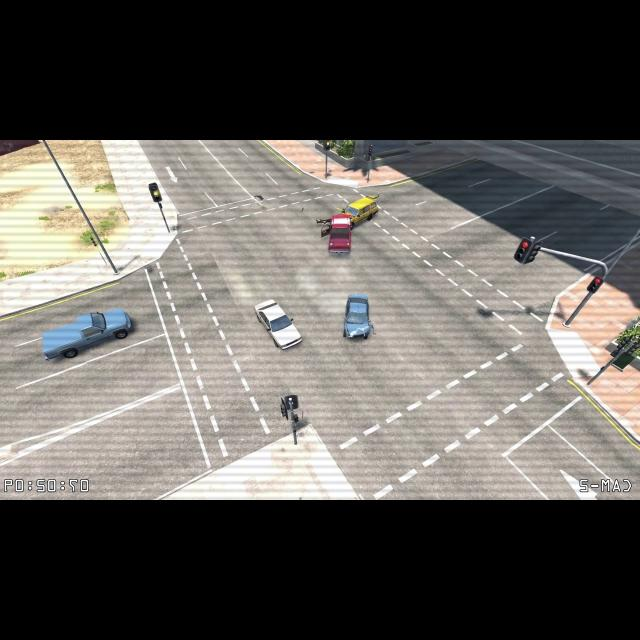accident: (315, 194, 385, 257)
